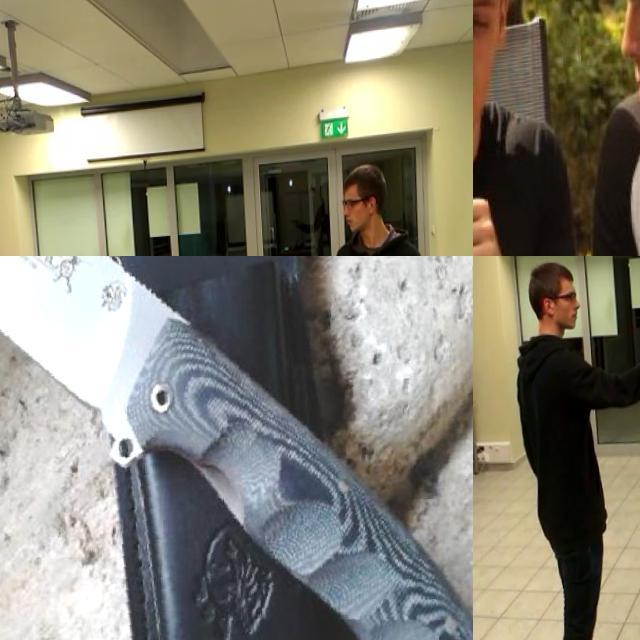-: (0, 256, 473, 640)
